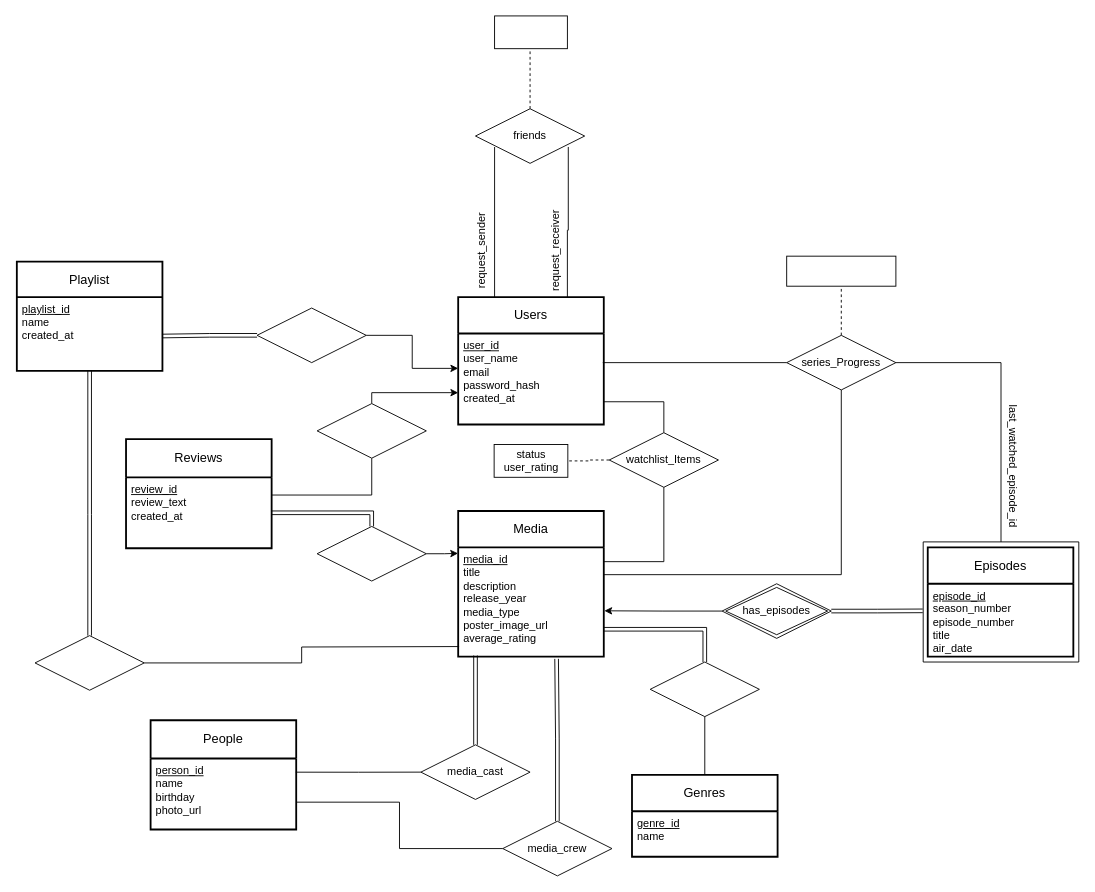
Image size: 1095x892. Some labels were removed from this diagram. Here are the shapes that lost their labels. From the top down, the centre of each, then its label:
At point 530,32: "status created".
At point 841,270: "last_watched_at".
At point 311,335: "owns".
At point 371,430: "gave_review".
At point 371,553: "review_for".
At point 89,662: "playlist_Items".
At point 704,689: "media_Genre".
